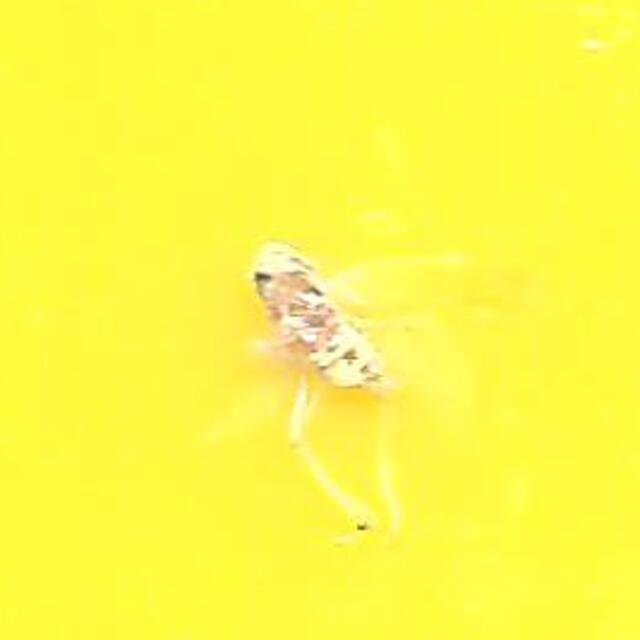Hemiptera: (240, 225, 400, 415)
